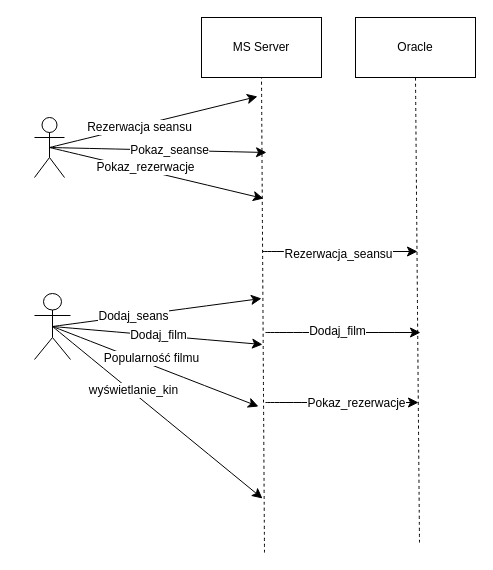
This 493x570 diagram has some shape labels left out. Each missing label, with the box of its shape:
Administrator: (34, 292, 70, 360)
Użytkownik: (34, 116, 64, 178)
